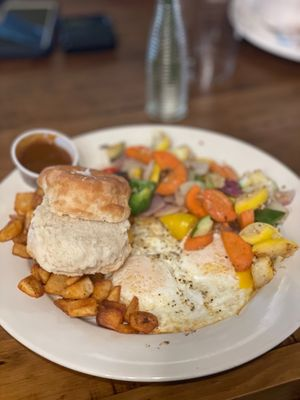pizza: (9, 128, 79, 186)
soup: (15, 164, 133, 312)
sushi: (9, 128, 80, 186)
